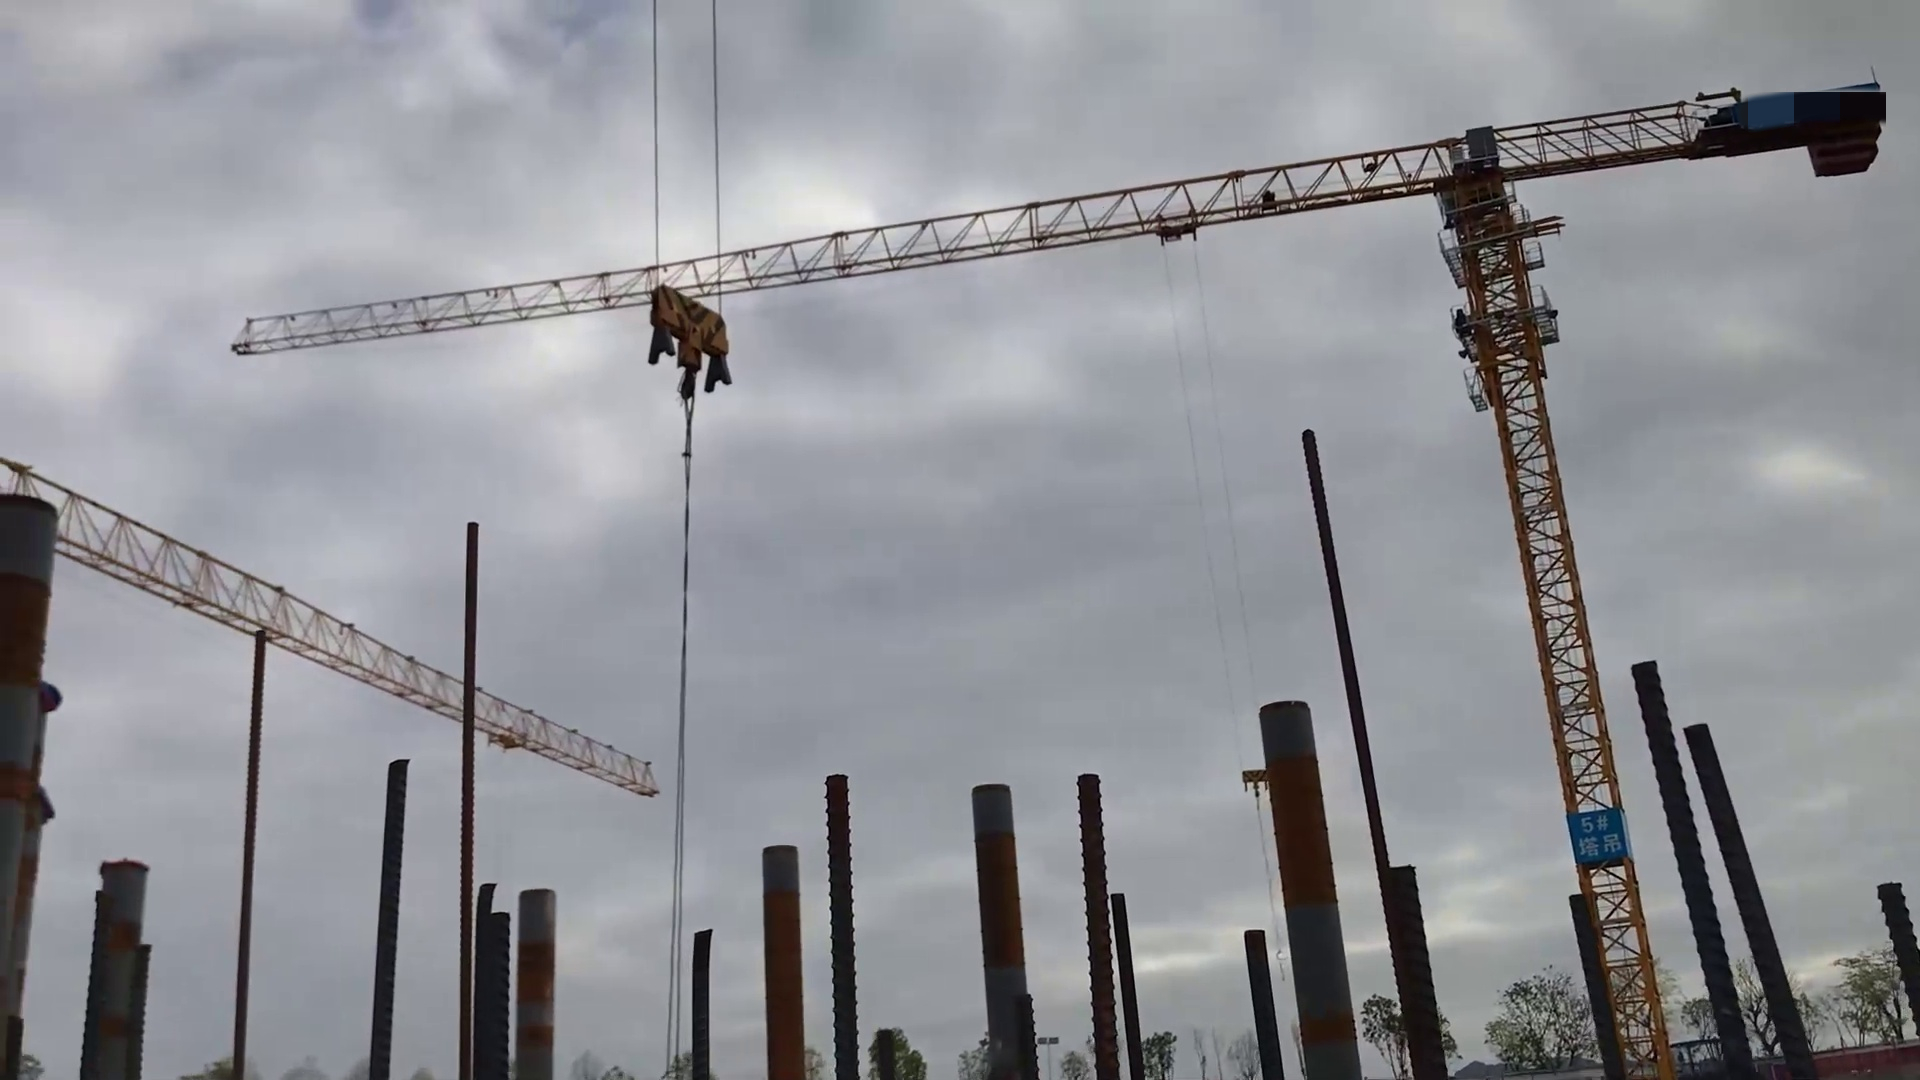hook: (640, 278, 742, 418)
